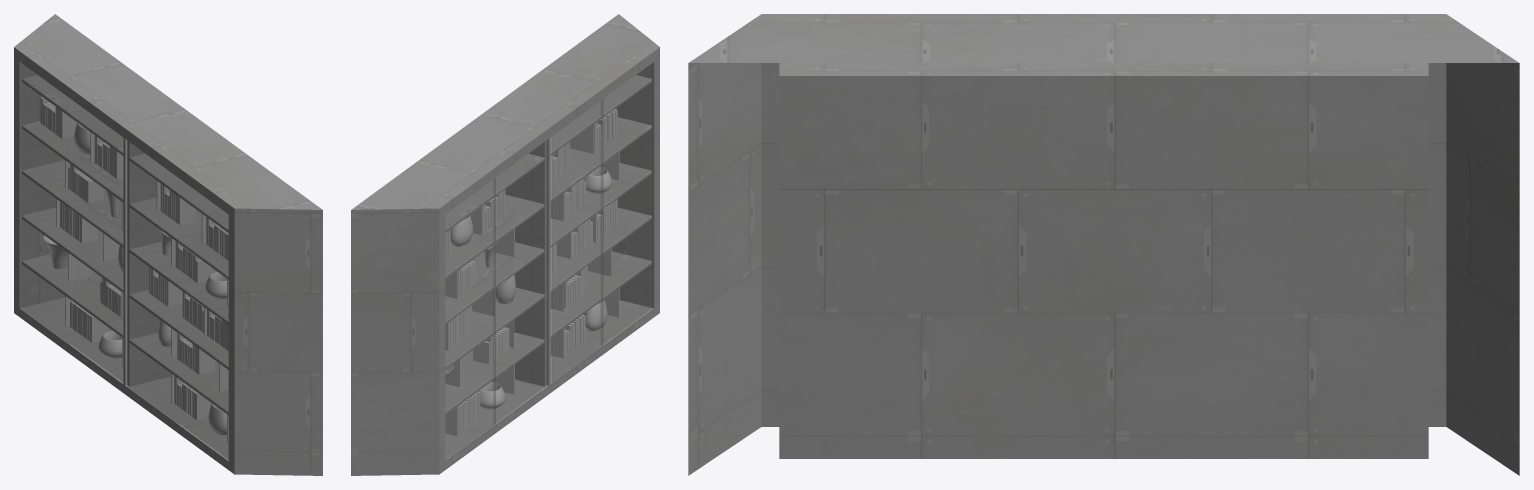
File: Wallshelf01.FBX
3 views of the same model, side by side, from view 1: azimuth 30°, elevation 25°; view 2: azimuth 150°, elevation 25°; view 3: azimuth 270°, elevation 25° (orthographic). The views are drawn at different scales.
Visible parts, largest first — view 1: WallShelf01, WallShef01_Glass, Wallshelf01, Wallshelf01_Pot; view 2: WallShelf01, WallShef01_Glass, Wallshelf01, Wallshelf01_Pot; view 3: WallShelf01.
Boxes of the visible parts, x1,y1,x2,y2 form: WallShelf01: (14,14,322,475); WallShef01_Glass: (20,62,228,459); Wallshelf01: (40,97,228,419); Wallshelf01_Pot: (43,123,226,435); WallShelf01: (351,14,659,475); WallShef01_Glass: (445,63,652,460); Wallshelf01: (445,109,617,433); Wallshelf01_Pot: (445,167,612,409); WallShelf01: (688,14,1519,475).
Bounding box in the file's own units: 897 × 3516 × 6415.
